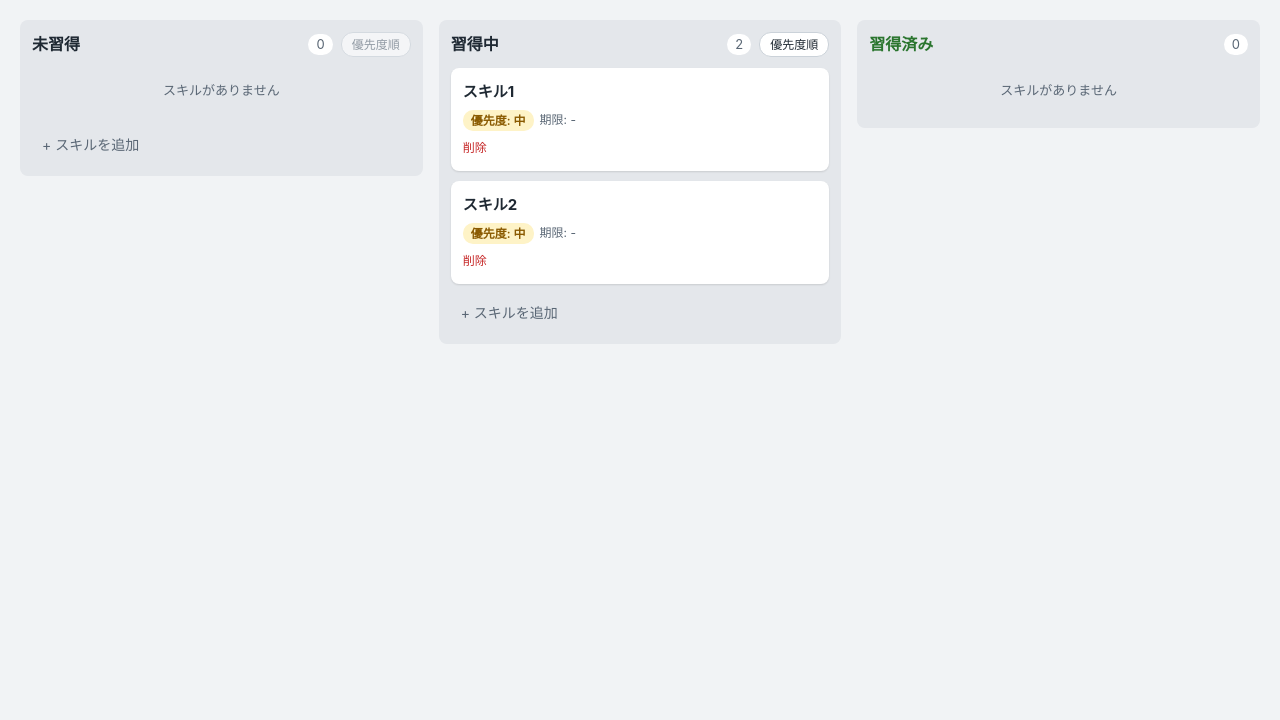
Test case: Board: 優先度順の並べ替え › 押せる・押せない › スキルが1件になった(削除した)ら、押せなくなる
Expected: the button "優先度順" in the row of "習得中" is enabled, [759, 32, 829, 57]
Step 1. Click the button with aria-label "「スキル1」を削除" → (475, 147), box [463, 138, 487, 157]
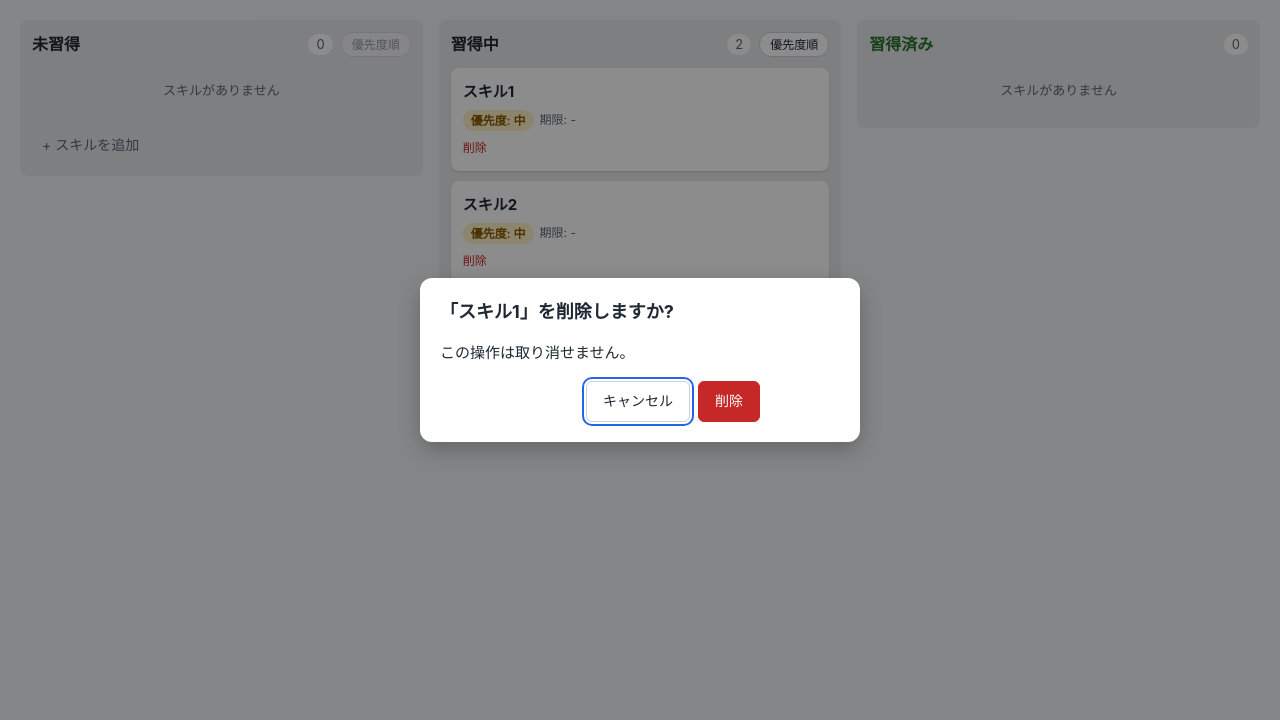
Step 2. Click the button "削除" → (729, 401), box [698, 381, 760, 422]
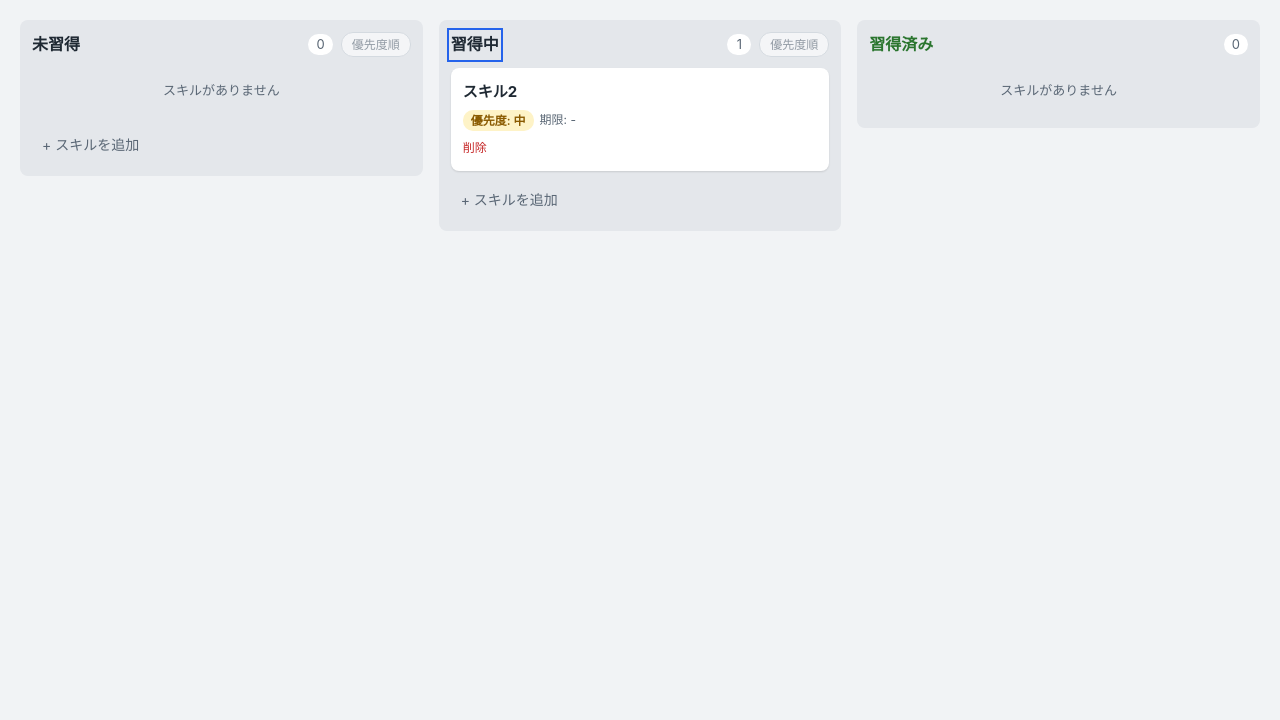
Now the button "優先度順" in the row of "習得中" is disabled, box [759, 32, 829, 57]
